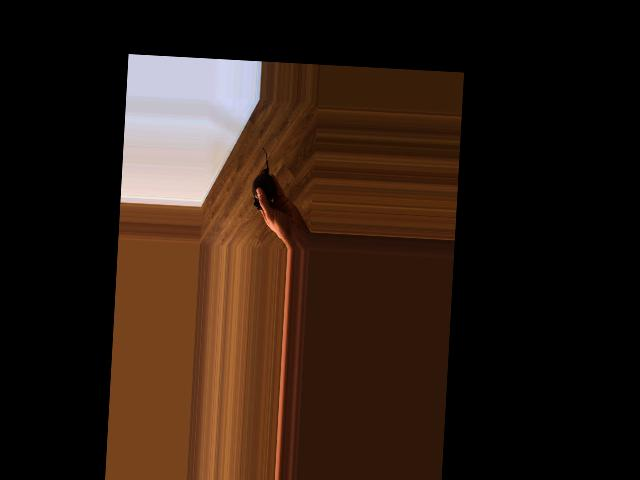beet: (251, 146, 277, 210)
